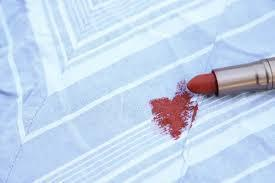kimchi: (151, 76, 201, 141)
